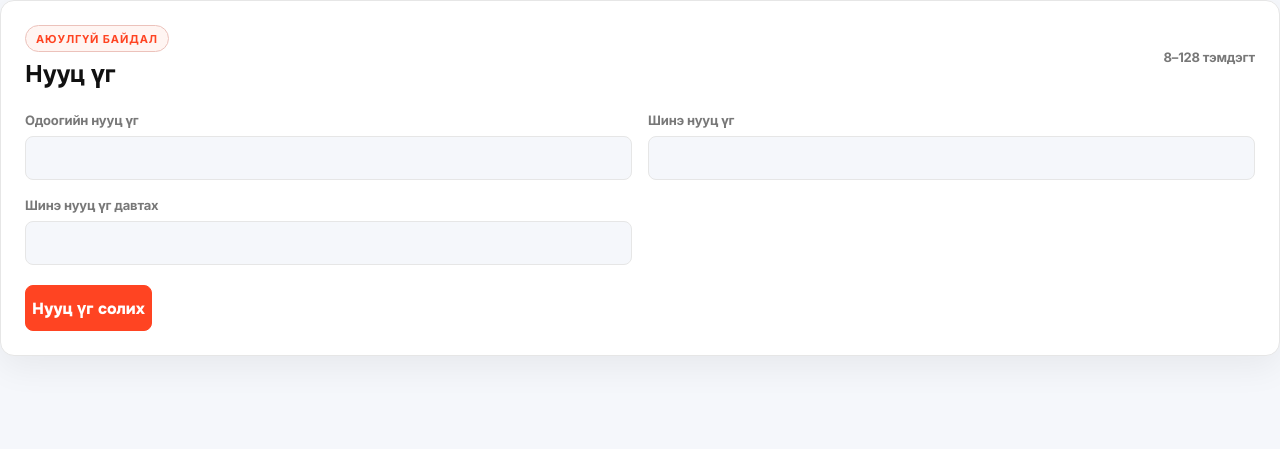
PasswordForm › submits and clears password fields
The width and height of the screenshot is (1280, 449).
Type "password123" into the password field labelled "Одоогийн нууц үг" at [328, 158], box left=25, top=136, right=632, bottom=180
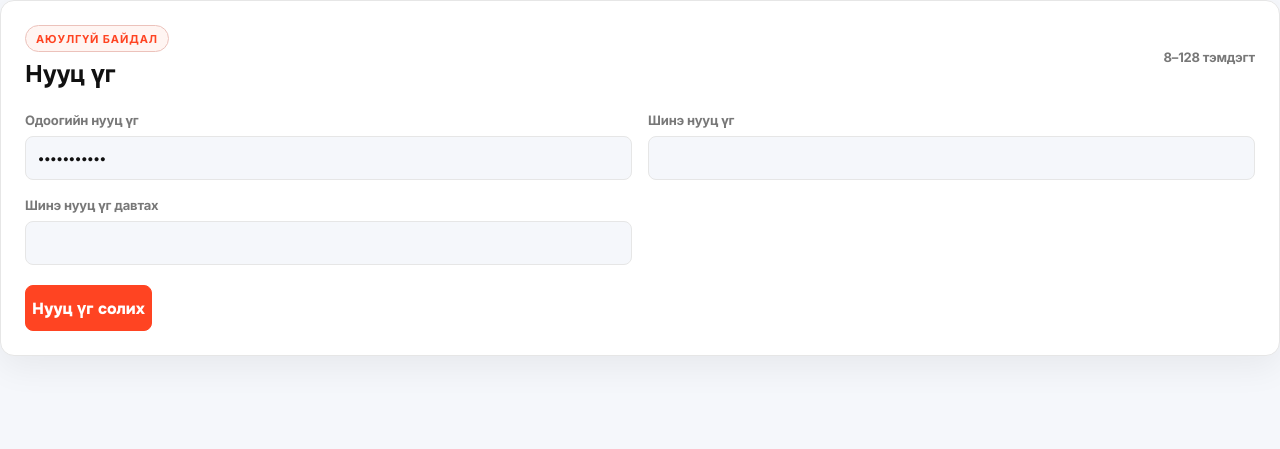
Type "different123" into the password field labelled "Шинэ нууц үг" at [952, 158], box left=648, top=136, right=1255, bottom=180
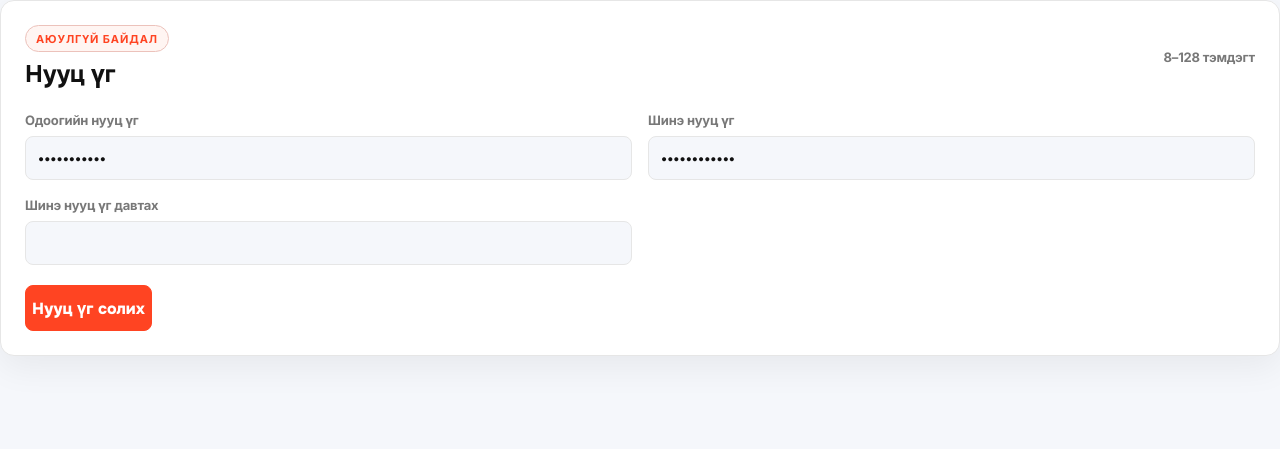
Type "different123" into the password field labelled "Шинэ нууц үг давтах" at [328, 243], box left=25, top=221, right=632, bottom=265
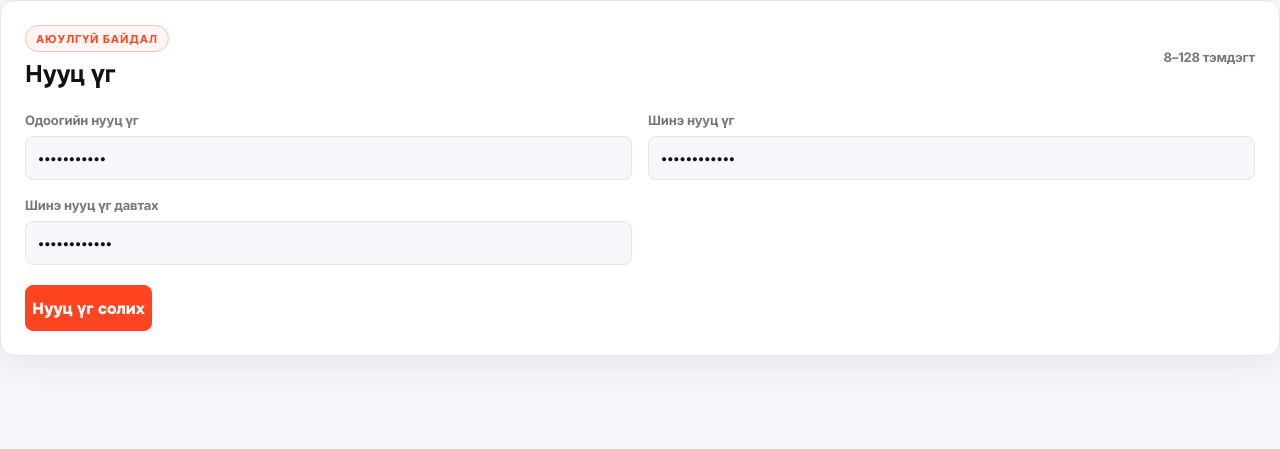
Submit the form named "Нууц үг солих"
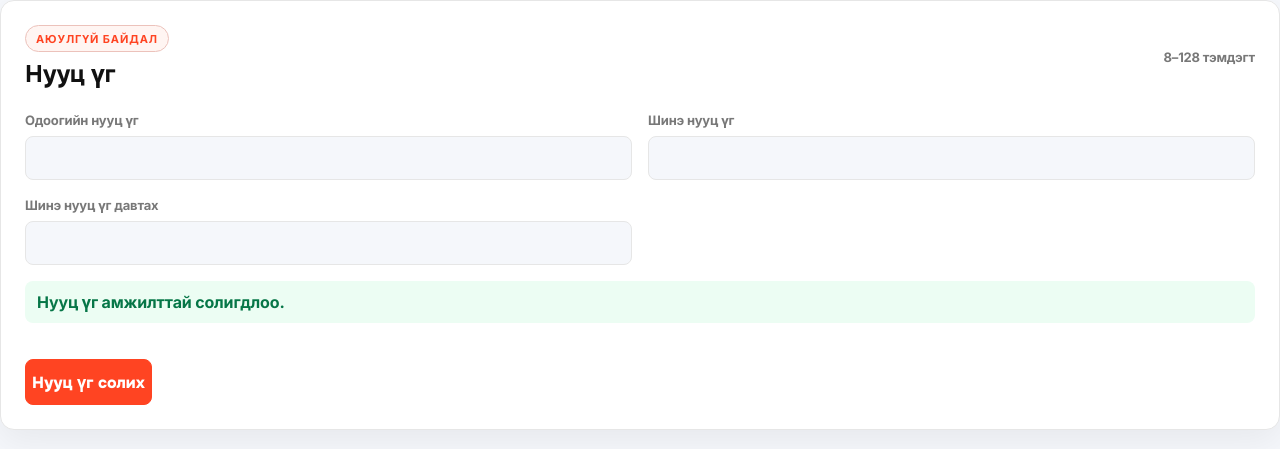
Result: the message shows "амжилттай" at left=37, top=292, right=285, bottom=312
Result: the password field labelled "Одоогийн нууц үг" is empty at left=25, top=136, right=632, bottom=180
